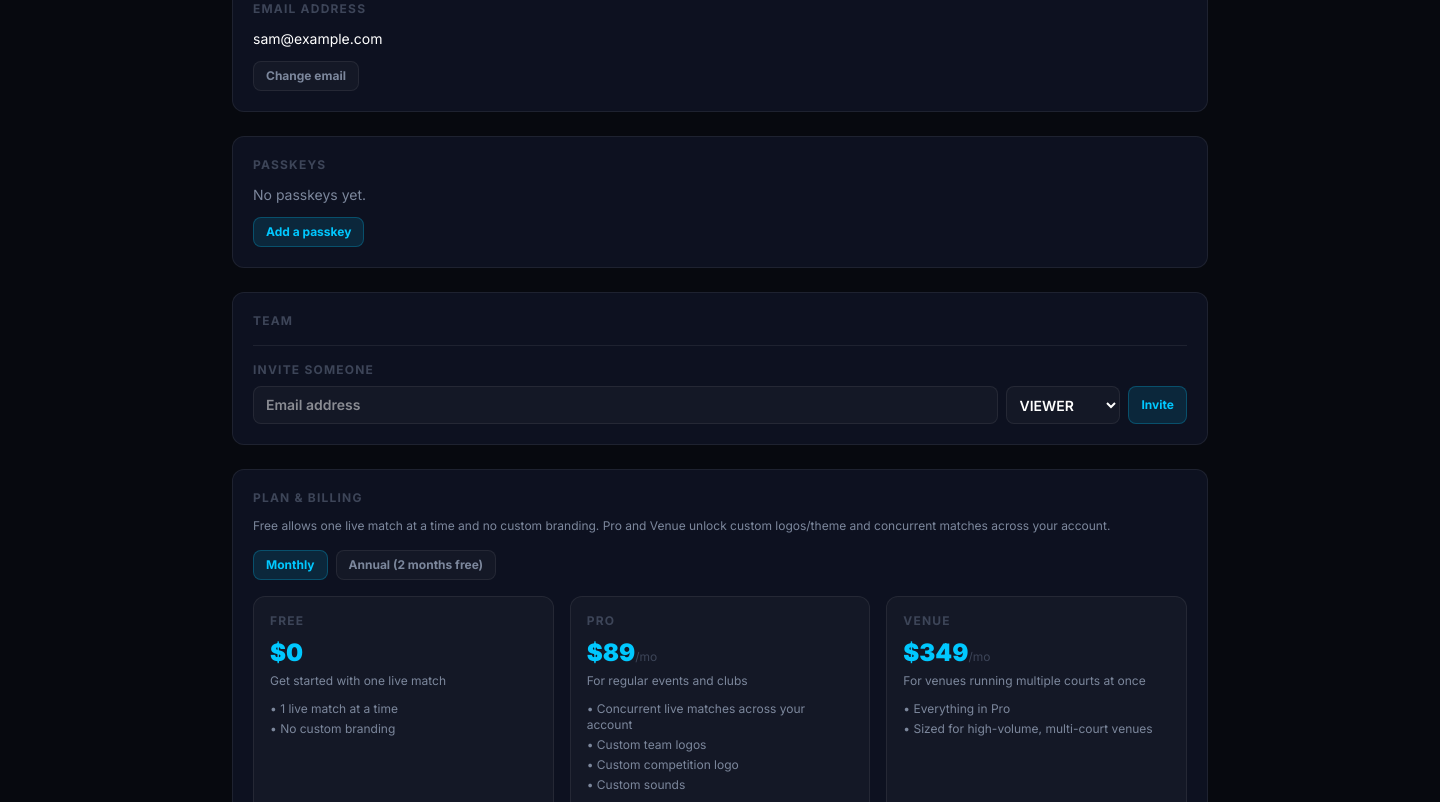
Test: AccountPage › invites a team member via the Team card
(page scrolled)
Expected: the text "Team" is shown, [253, 313, 293, 328]
In the field with placeholder "Email address": (626, 405) [253, 386, 998, 424], type "newperson@example.com"
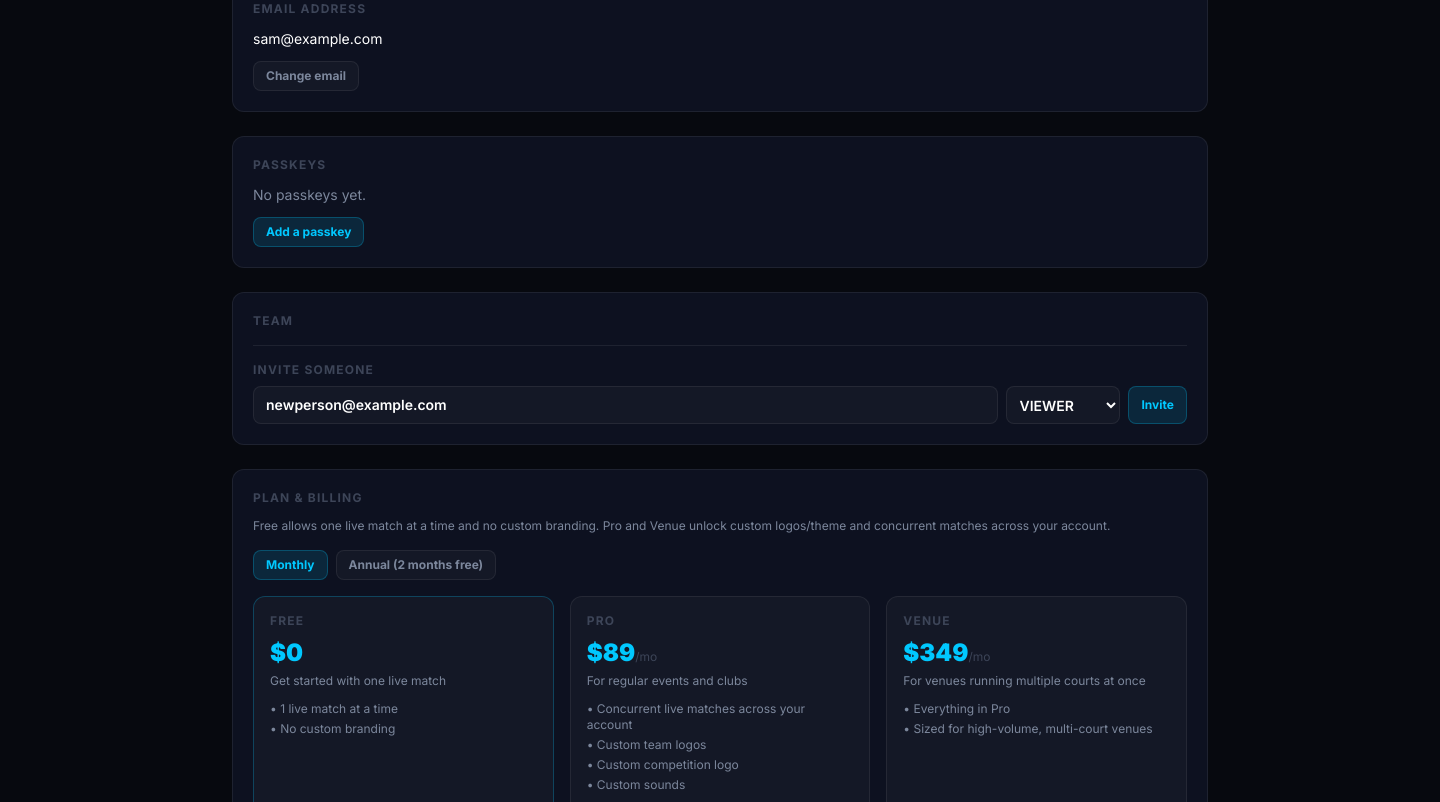
Click the button "Invite": (1158, 405) [1128, 386, 1187, 424]
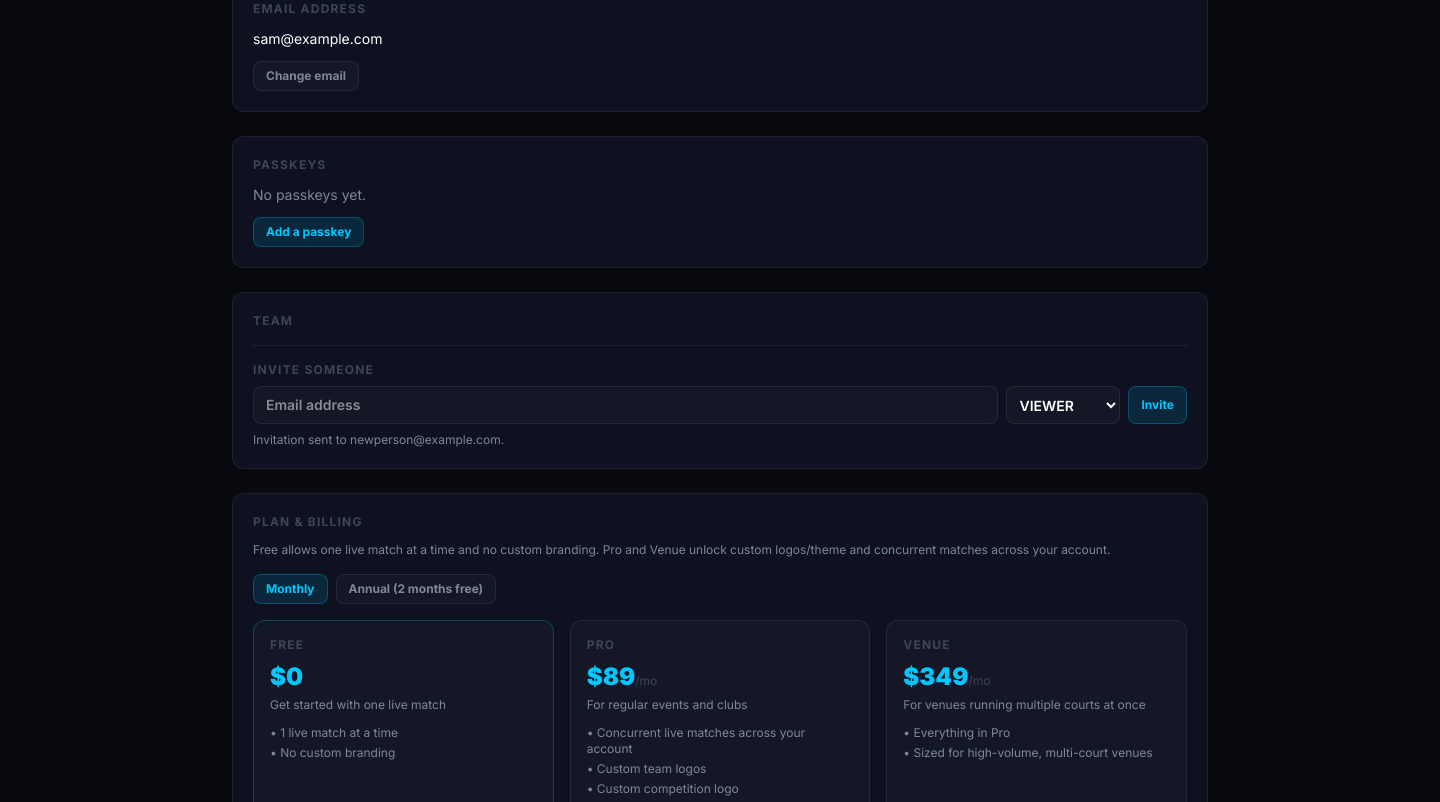
Now the text "Invitation sent to newperson@example.com." is shown, box [253, 432, 504, 447]
